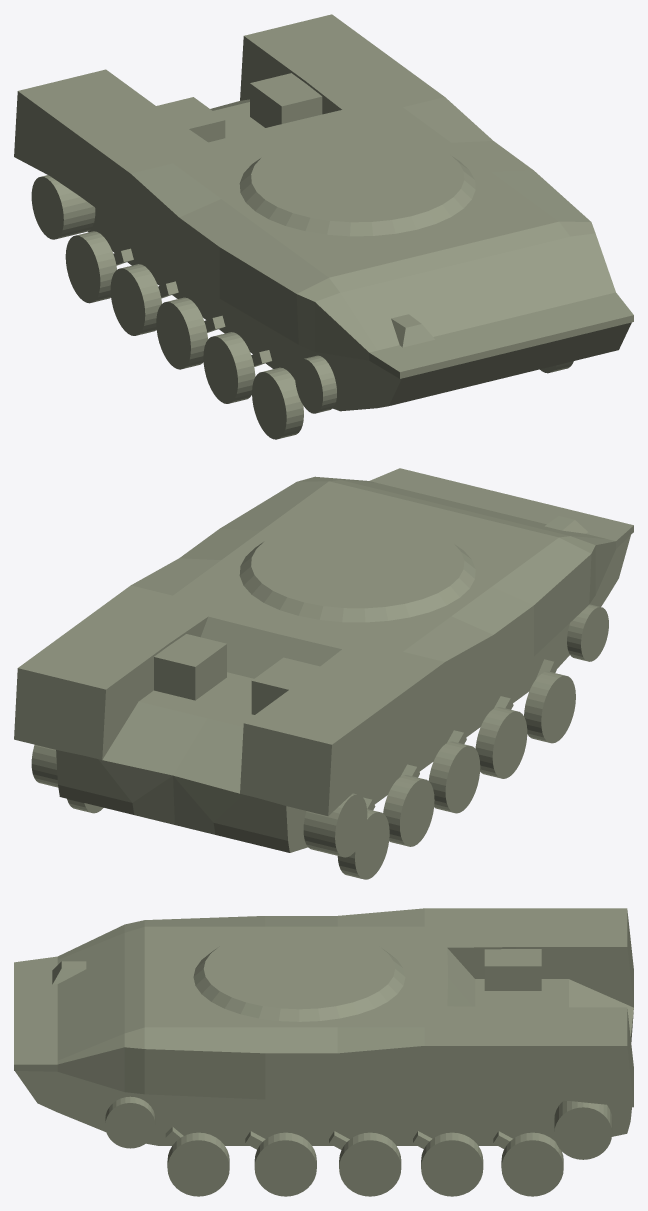
The model's file is бэха корпус.fbx.
3 renders of one model, top to bottom at view 1: azimuth 30°, elevation 25°; view 2: azimuth 150°, elevation 25°; view 3: azimuth 270°, elevation 25°, orthographic. The views are drawn at different scales.
Parts seen in each view (by area): view 1: Hull; view 2: Hull; view 3: Hull.
Boxes of the visible parts, box(x1,y1,x2,y2) form: Hull: box(14, 14, 633, 439); Hull: box(14, 468, 633, 879); Hull: box(14, 908, 633, 1196).
Bounding box in the file's own units: 971 × 542 × 1850.
